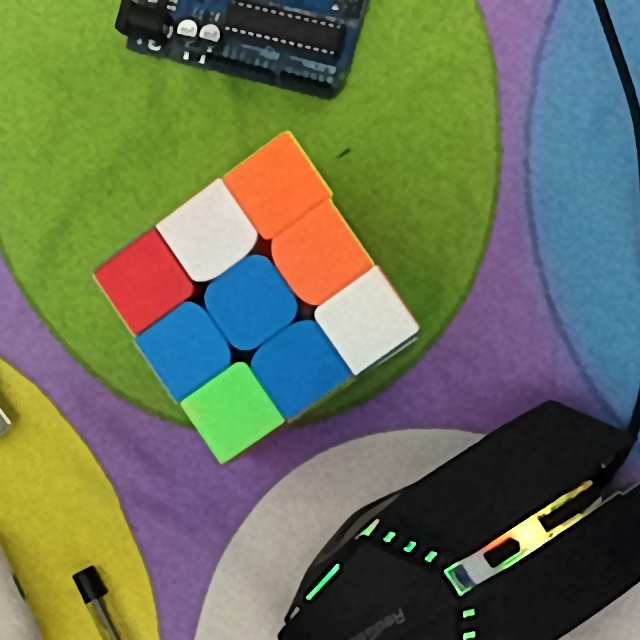tile: (225, 276, 281, 332), (180, 207, 238, 261), (248, 160, 304, 215), (292, 228, 346, 282), (339, 295, 393, 349), (276, 342, 330, 396), (209, 383, 263, 437), (158, 321, 213, 374), (121, 256, 171, 305)
